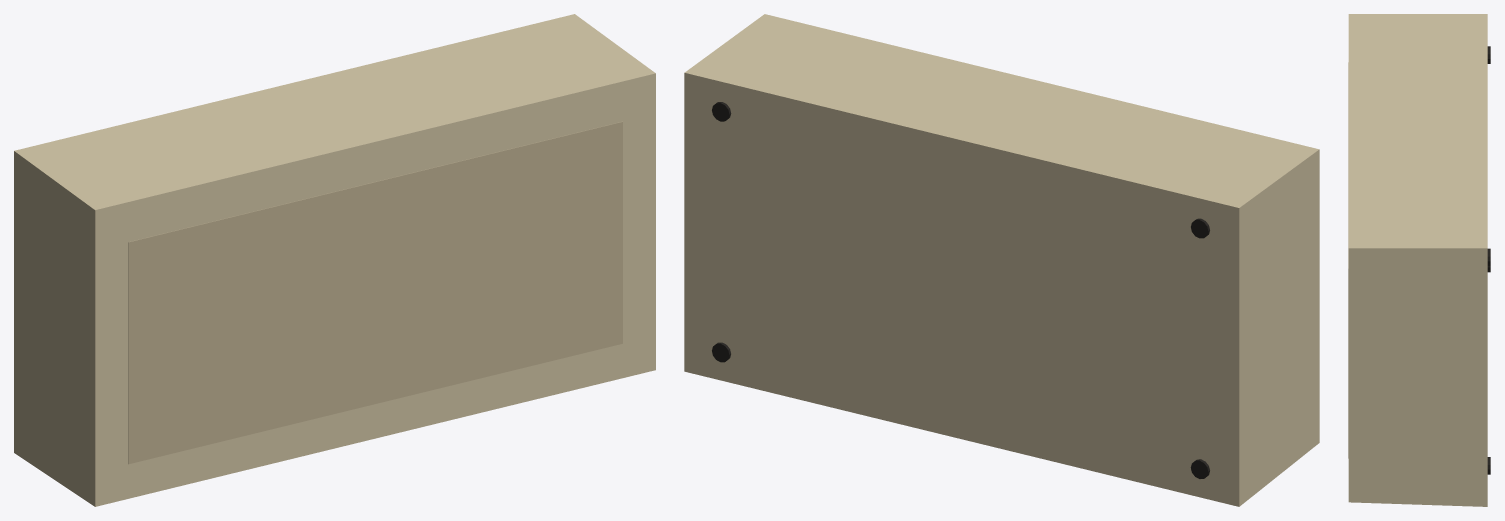
Rendered from ProFile.obj.
3 renders of one model, left to right at view 1: azimuth 30°, elevation 25°; view 2: azimuth 150°, elevation 25°; view 3: azimuth 270°, elevation 25°, orthographic. The views are drawn at different scales.
Bounding box in the file's own units: 439 × 228 × 113.
